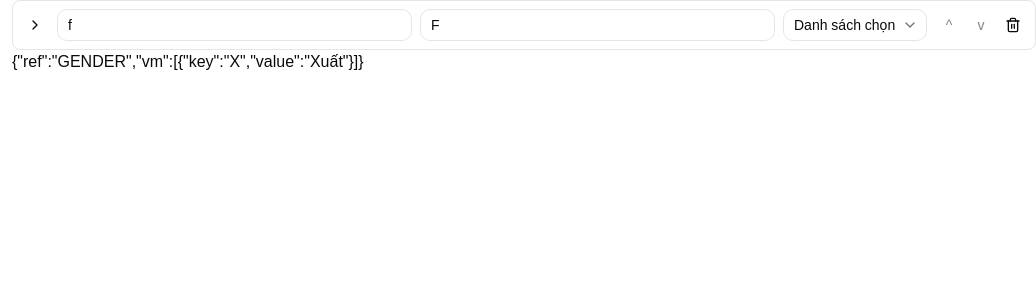
Test case: DatasourceOutputFieldRow: danh mục chỉ hiện với kiểu "Danh sách chọn" › kiểu enum: hiện danh mục và bảng đổi giá trị
The image size is (1036, 300).
Click the button named "Mở rộng".
click(35, 25)  # box [21,11,49,39]
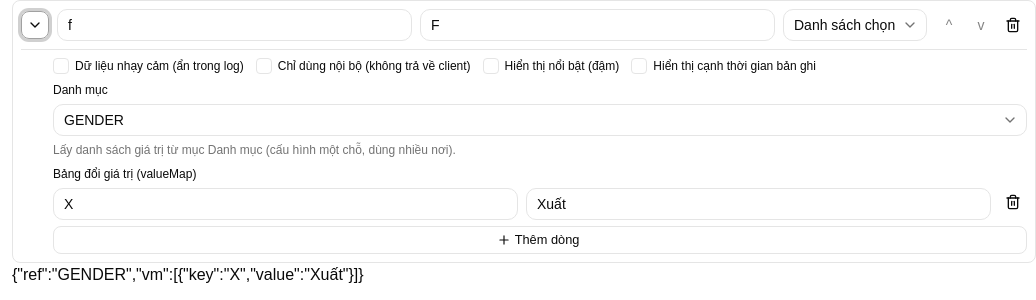
Expected: the text "Bảng đổi giá trị (valueMap)" is shown, [53,167,196,181]
